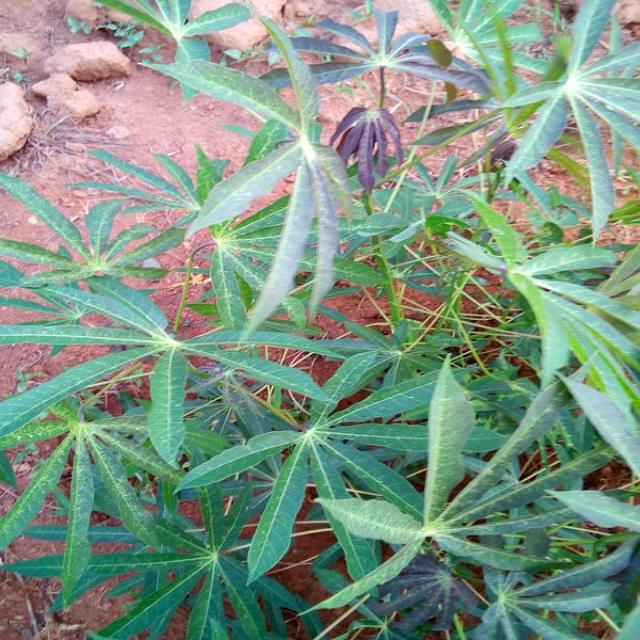cassava leaf: (1, 1, 638, 637), (422, 351, 474, 527)
